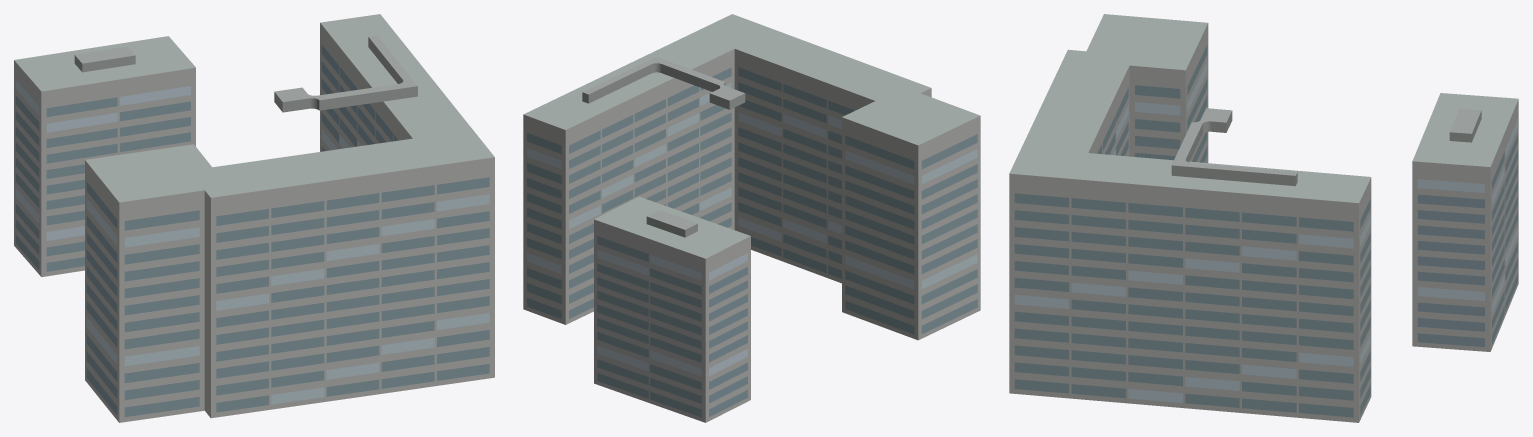
The model's file is apt-a10025504.glb.
The picture shows the model from 3 angles, left to right: view 1: azimuth 30°, elevation 25°; view 2: azimuth 150°, elevation 25°; view 3: azimuth 270°, elevation 25°; orthographic projection. The views are drawn at different scales.
Parts seen in each view (by area): view 1: apt-a10025504; view 2: apt-a10025504; view 3: apt-a10025504.
Boxes of the visible parts, box(x1,y1,x2,y2) form: apt-a10025504: box(14, 14, 494, 422); apt-a10025504: box(523, 14, 980, 422); apt-a10025504: box(1009, 14, 1518, 422).
Bounding box in the file's own units: 67.02 × 38 × 76.25.
